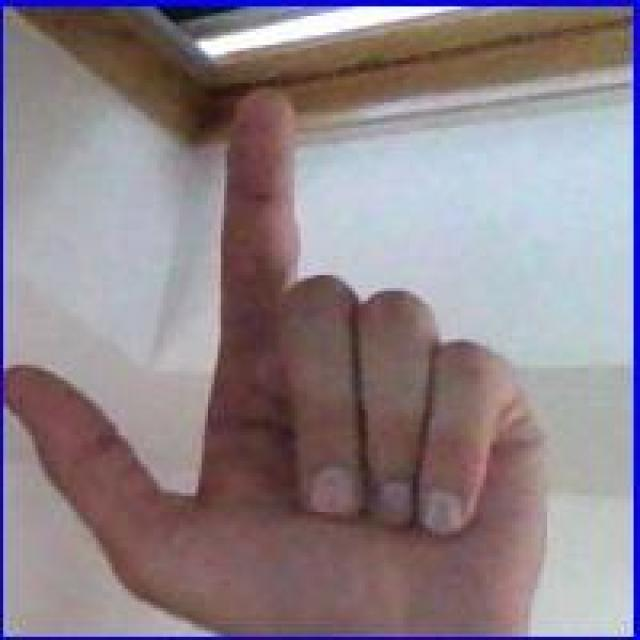L: (6, 81, 566, 628)
